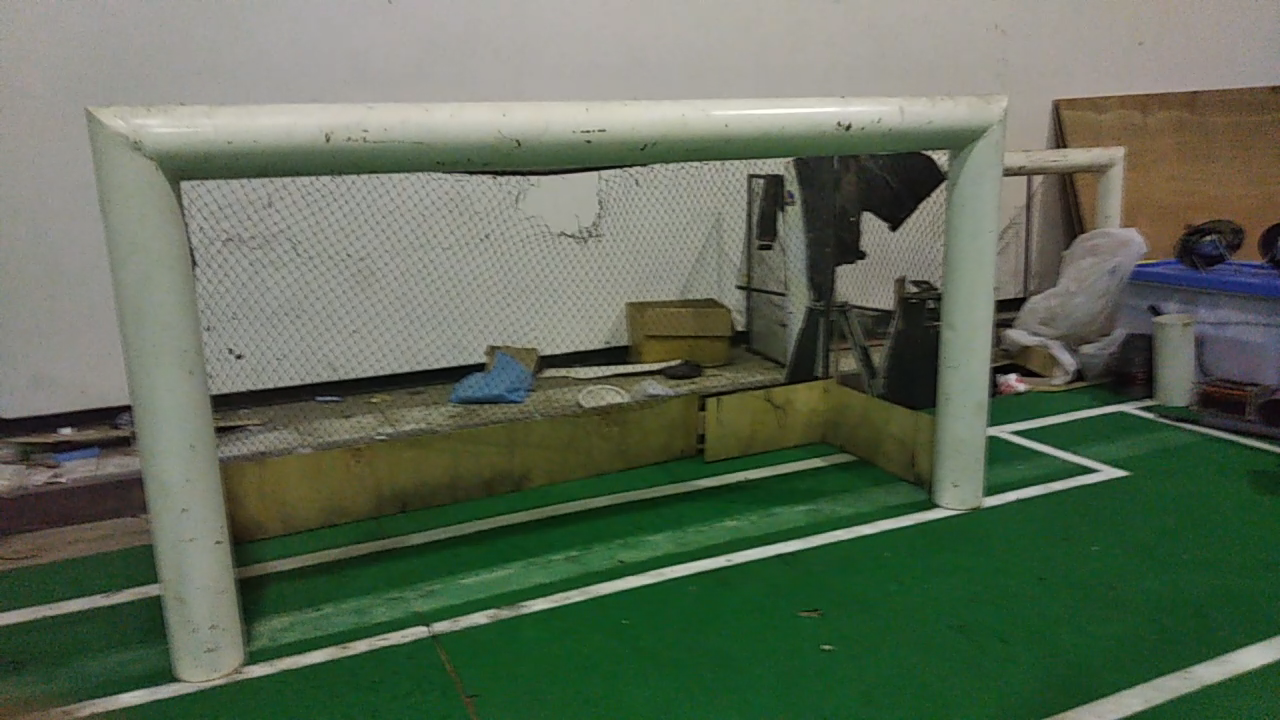gawang: (67, 83, 1033, 702)
